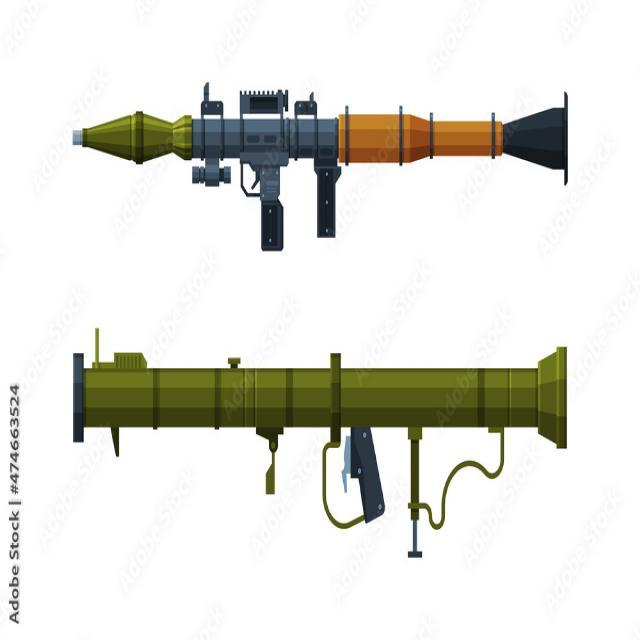rocket launcher: (69, 323, 575, 564), (67, 69, 582, 256)
